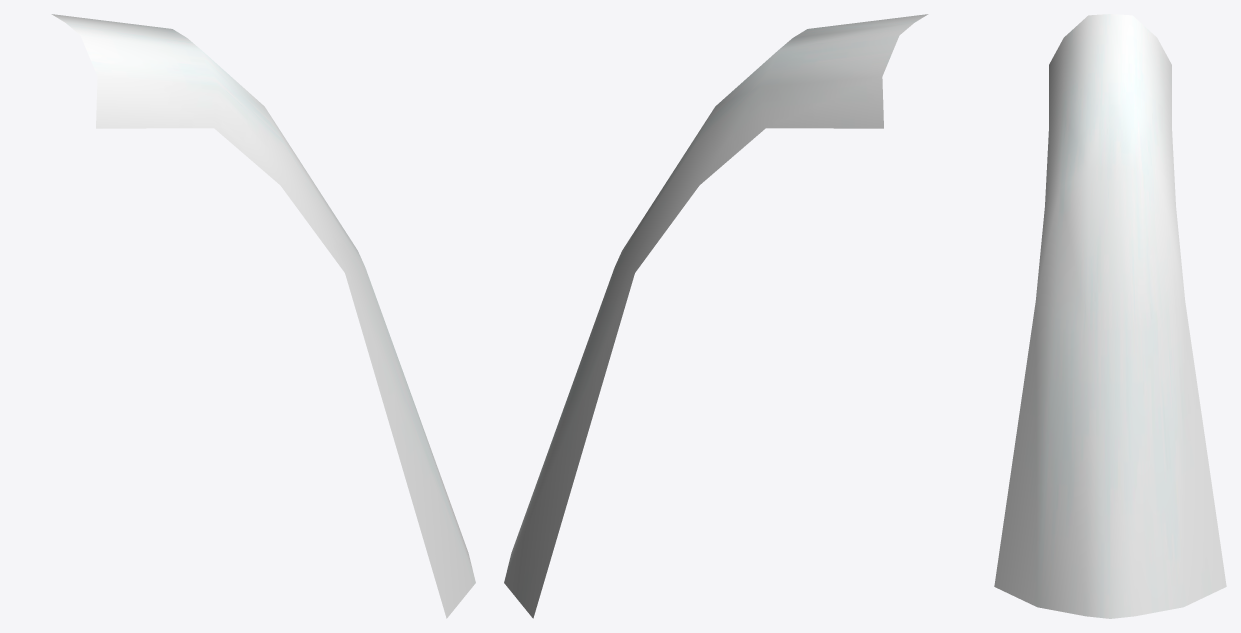
Rendered from waterfall-turtle01-2.glb.
3 renders of one model, left to right at view 1: azimuth 30°, elevation 25°; view 2: azimuth 150°, elevation 25°; view 3: azimuth 270°, elevation 25°, orthographic. The views are drawn at different scales.
Visible parts, largest first — view 1: waterfall02; view 2: waterfall02; view 3: waterfall02.
Boxes of the visible parts, x1=… form: waterfall02: x1=51, y1=14, x2=475, y2=618; waterfall02: x1=504, y1=14, x2=928, y2=618; waterfall02: x1=994, y1=14, x2=1226, y2=618.
Size of the model in its own units: 3.07 by 4.42 by 2.02.
1 material, 1 textured.
